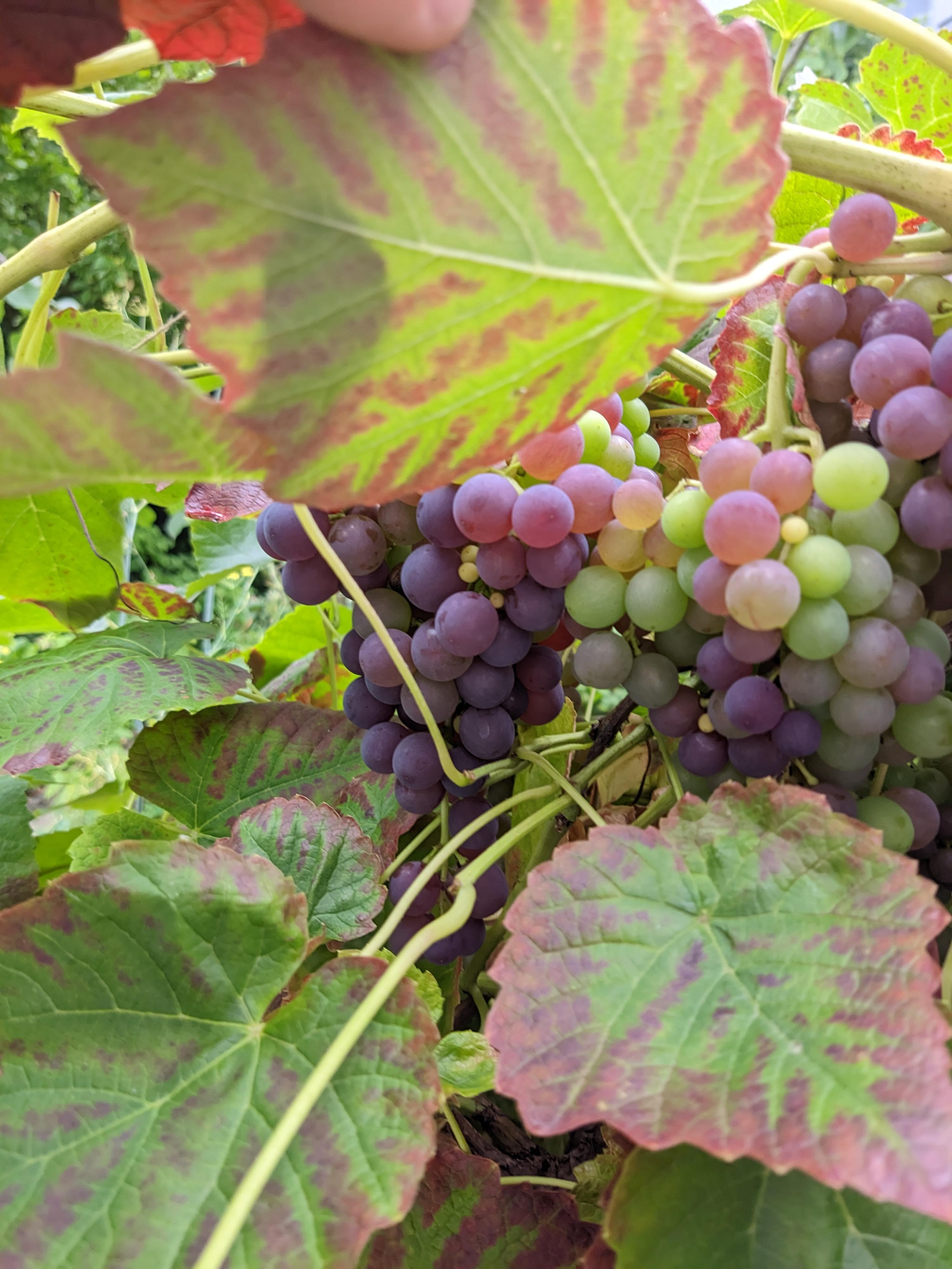Grape Unripe: (252, 381, 664, 965), (568, 424, 952, 863), (802, 203, 952, 554)
